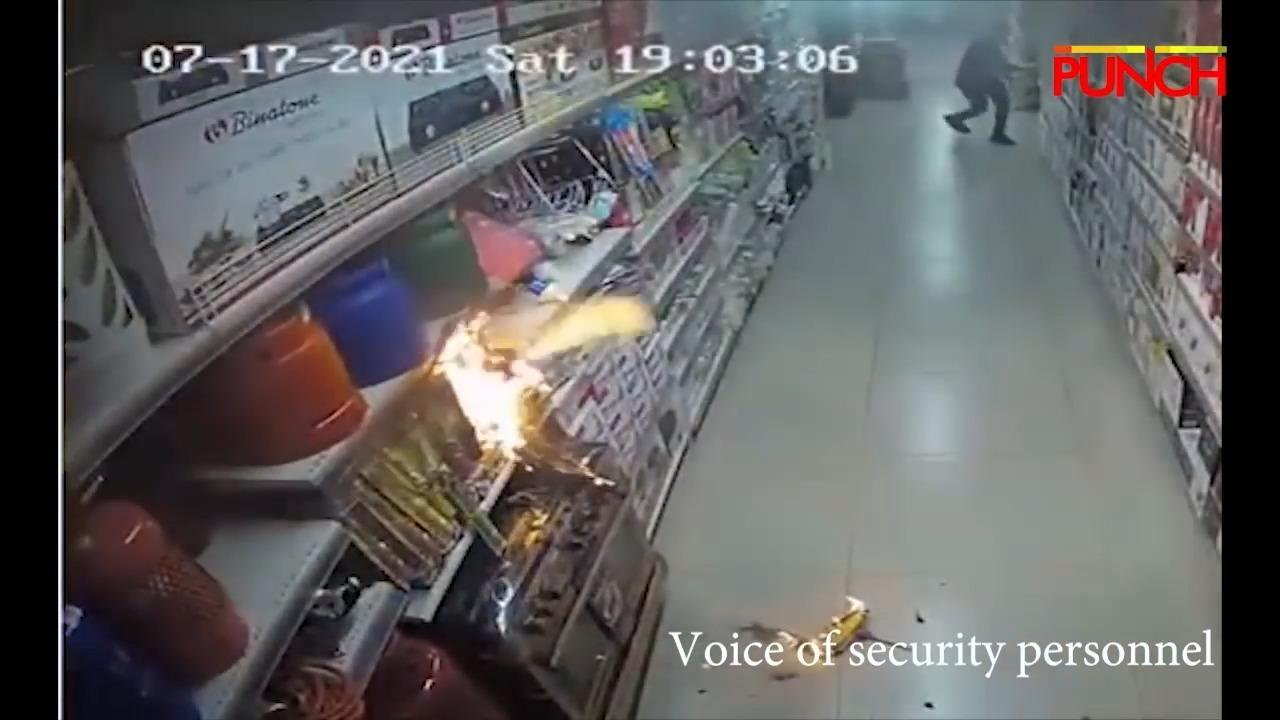fire: (437, 322, 550, 459), (846, 590, 866, 611)
